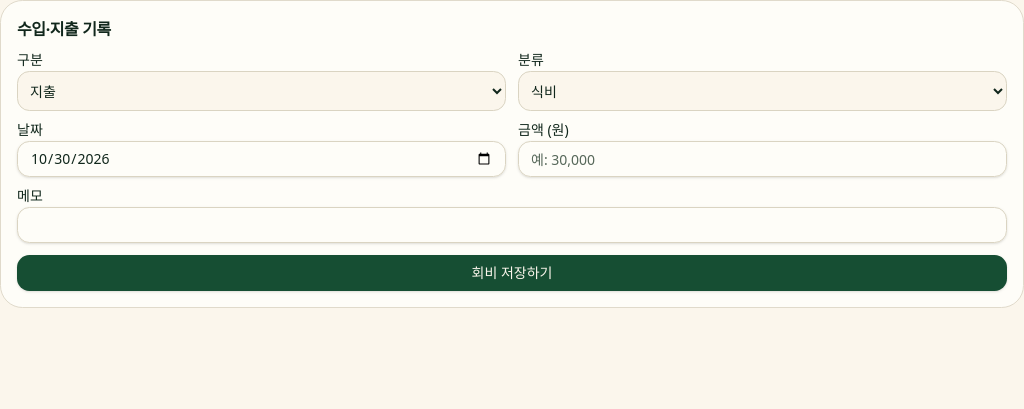
Scenario: 수입·지출 추가 분류 › 쉼표가 있는 회비도 저장하고 서버 확인 후 완료를 표시한다
Select "수입" in the dropdown labelled "구분" at (262, 91), box [17,71,506,111]
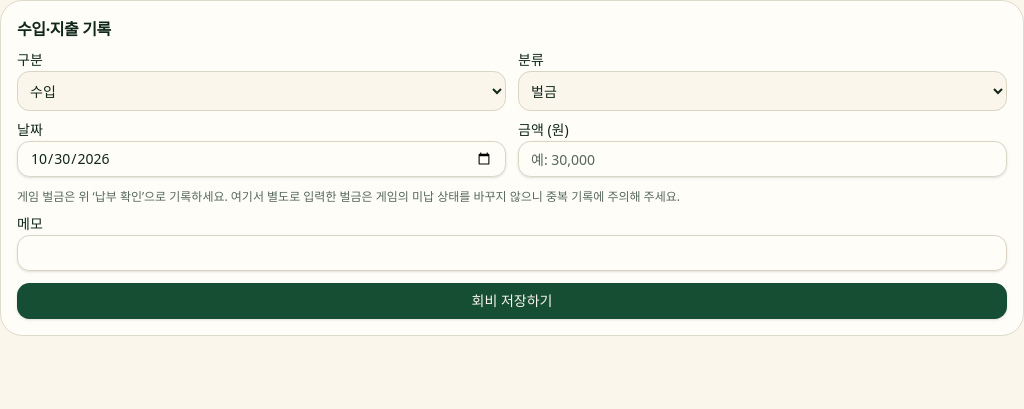
Type "100,000" into the field labelled "금액 (원)" at (762, 159), box [518,141,1007,177]
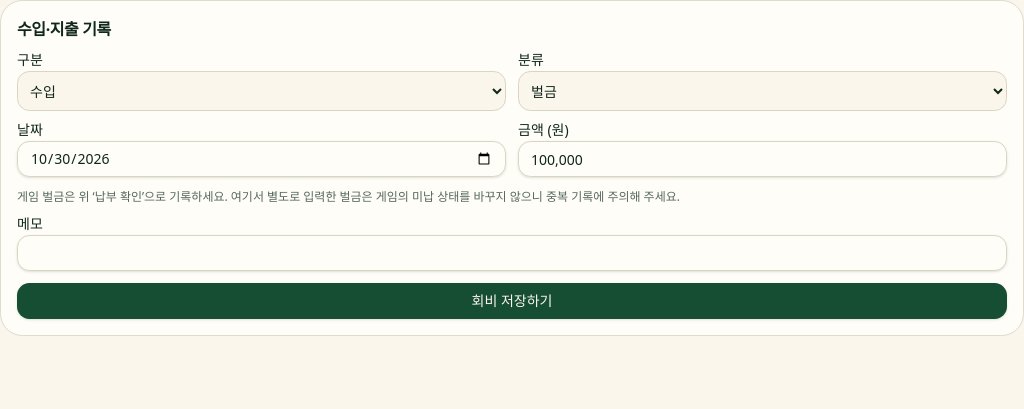
Click the button "회비 저장하기" at (512, 301), box [17,283,1007,319]
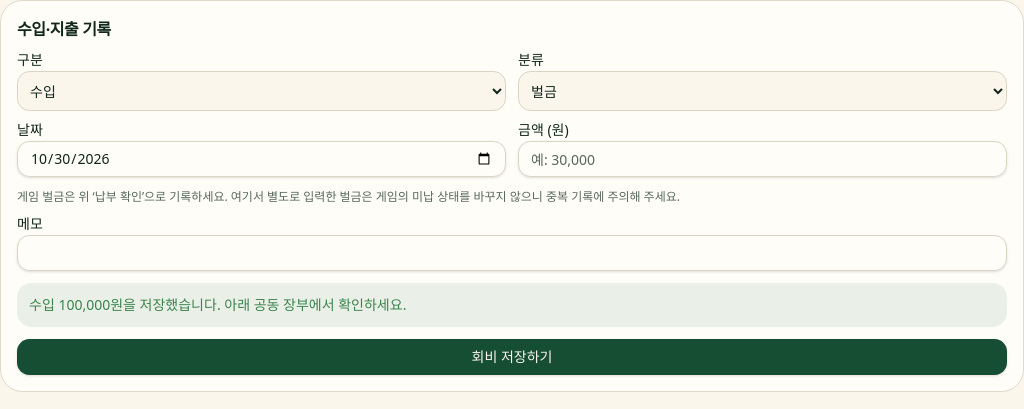
expect the message shows "수입 100,000원을 저장했습니다.": met, box [29,295,406,314]
